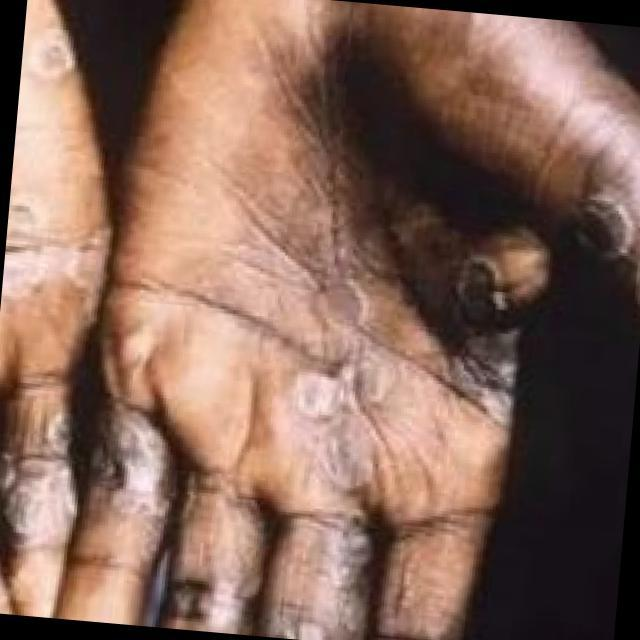Eczema: (0, 167, 633, 640)
